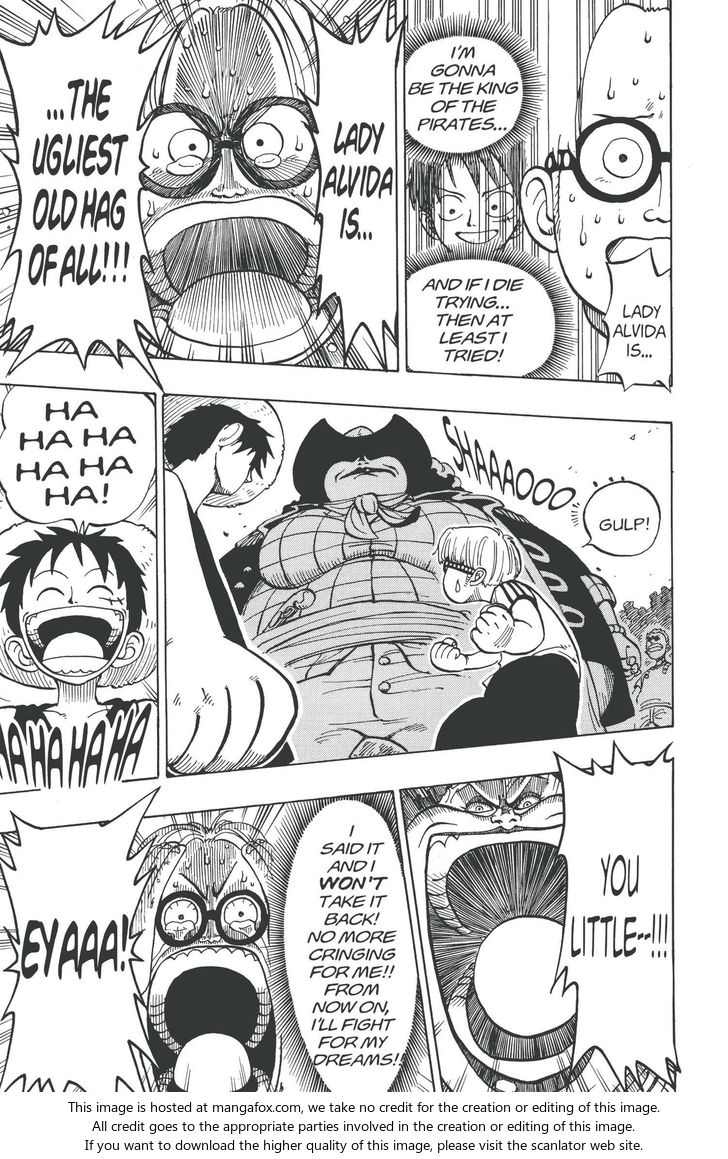bubble: (0, 1, 179, 393), (0, 788, 160, 1094), (549, 740, 681, 1095), (277, 796, 422, 1093), (295, 0, 408, 373), (0, 383, 157, 535), (404, 257, 559, 378), (404, 30, 529, 161), (596, 249, 674, 393), (582, 480, 663, 558)
